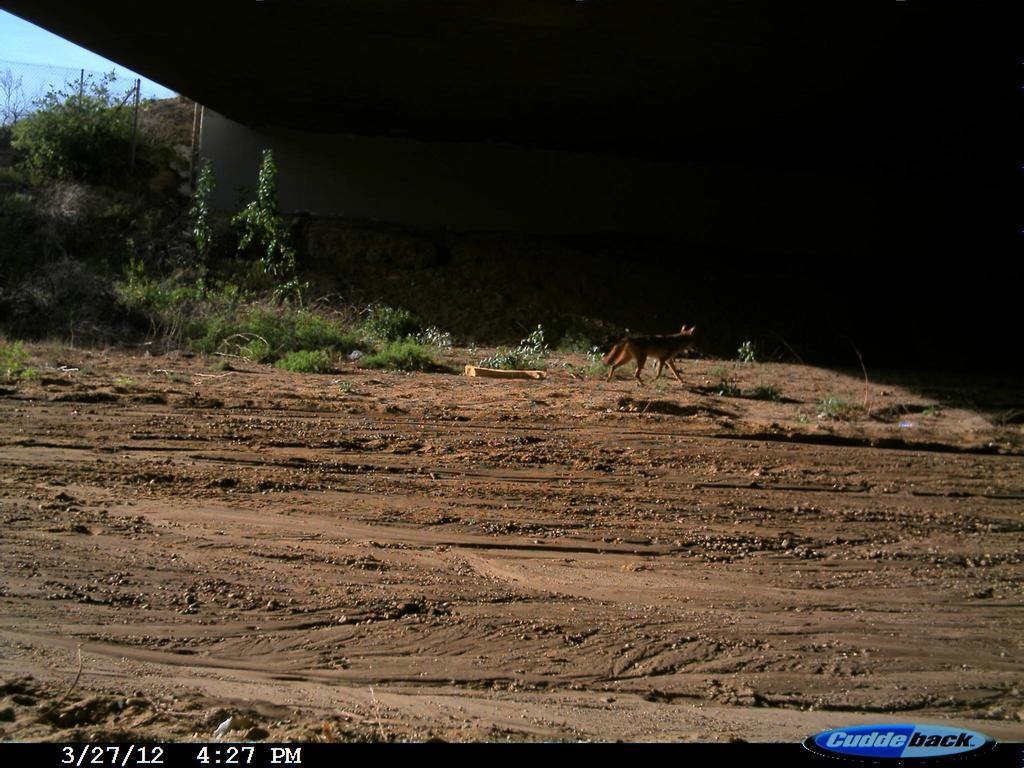coyote: (591, 323, 716, 388)
